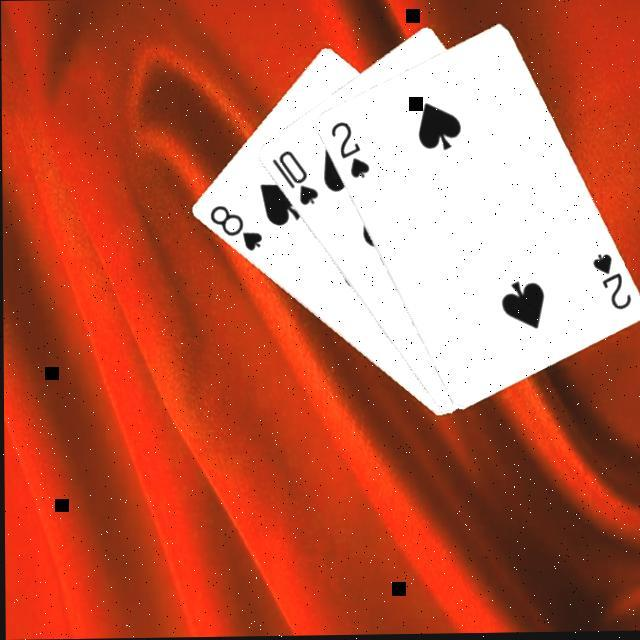10S: (269, 148, 322, 211)
2S: (327, 119, 373, 184), (588, 252, 634, 317)
8S: (205, 203, 265, 257)
